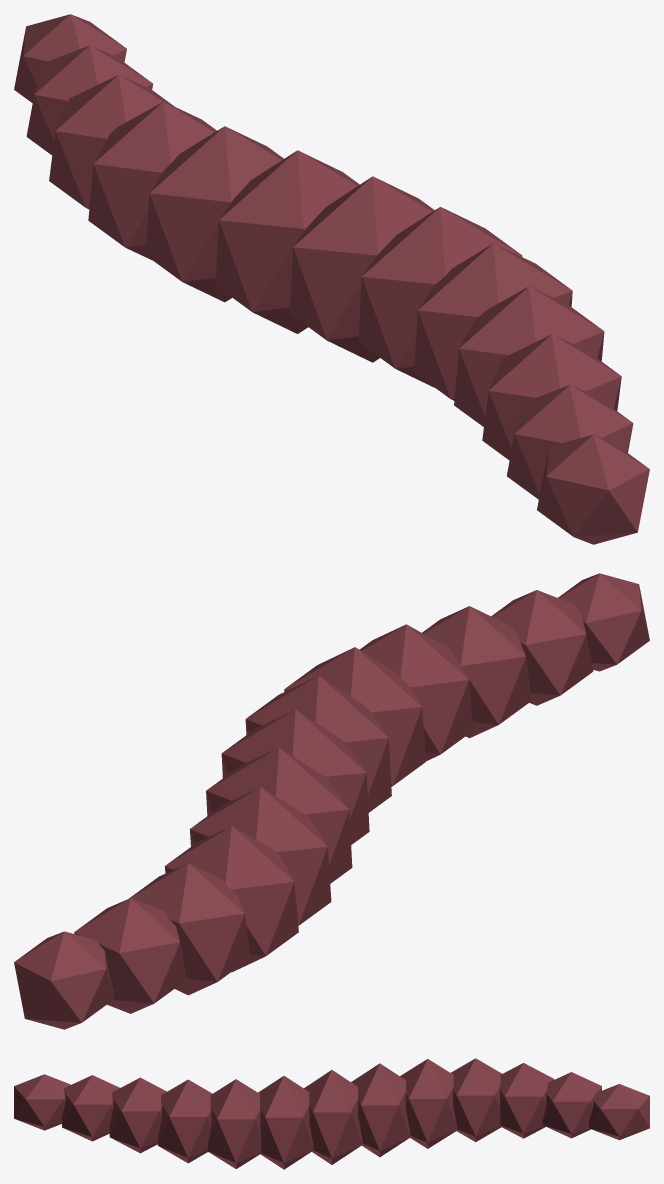
The model's file is Leech.fbx.
3 views of the same model, one above another, from view 1: azimuth 30°, elevation 25°; view 2: azimuth 150°, elevation 25°; view 3: azimuth 270°, elevation 25° (orthographic). The views are drawn at different scales.
Visible parts, largest first — view 1: Segment5, Segment6, Segment4, Segment7, Segment3, Segment8, Segment12, Segment9, Segment10, Segment2, Segment11, Segment1 (+1 smaller); view 2: Segment2, Segment3, Segment1, Segment10, Segment4, Segment0, Segment9, Segment5, Segment11, Segment8, Segment6, Segment7 (+1 smaller); view 3: Segment7, Segment6, Segment5, Segment8, Segment4, Segment9, Segment3, Segment10, Segment2, Segment11, Segment1, Segment0 (+1 smaller).
Boxes of the visible parts, left/top/right/bottom form: Segment5: left=215, top=150, right=359, bottom=333; Segment6: left=290, top=176, right=434, bottom=362; Segment4: left=145, top=126, right=283, bottom=302; Segment7: left=358, top=207, right=522, bottom=387; Segment3: left=88, top=101, right=216, bottom=259; Segment8: left=414, top=243, right=572, bottom=400; Segment12: left=537, top=434, right=649, bottom=544; Segment9: left=454, top=286, right=604, bottom=426; Segment10: left=482, top=334, right=621, bottom=460; Segment2: left=49, top=74, right=174, bottom=209; Segment11: left=507, top=385, right=633, bottom=499; Segment1: left=26, top=45, right=152, bottom=155; Segment2: left=129, top=863, right=250, bottom=995; Segment3: left=164, top=826, right=298, bottom=972; Segment1: left=74, top=898, right=186, bottom=1013; Segment10: left=422, top=606, right=531, bottom=738; Segment4: left=189, top=787, right=331, bottom=925; Segment0: left=14, top=931, right=114, bottom=1029; Segment9: left=359, top=624, right=473, bottom=761; Segment5: left=206, top=747, right=352, bottom=883; Segment11: left=491, top=590, right=593, bottom=705; Segment8: left=284, top=647, right=425, bottom=786; Segment6: left=221, top=709, right=369, bottom=844; Segment7: left=245, top=675, right=391, bottom=812; Segment7: left=258, top=1076, right=313, bottom=1169; Segment6: left=304, top=1070, right=362, bottom=1164; Segment5: left=351, top=1063, right=410, bottom=1157; Segment8: left=207, top=1079, right=261, bottom=1168; Segment4: left=400, top=1059, right=457, bottom=1148; Segment9: left=157, top=1079, right=212, bottom=1163; Segment3: left=451, top=1058, right=501, bottom=1142; Segment10: left=109, top=1077, right=166, bottom=1153; Segment2: left=500, top=1063, right=554, bottom=1138; Segment11: left=62, top=1075, right=119, bottom=1141; Segment1: left=542, top=1072, right=601, bottom=1138; Segment0: left=589, top=1084, right=649, bottom=1140.
Size of the model in its own units: 0.1191 by 0.088 by 0.531.
